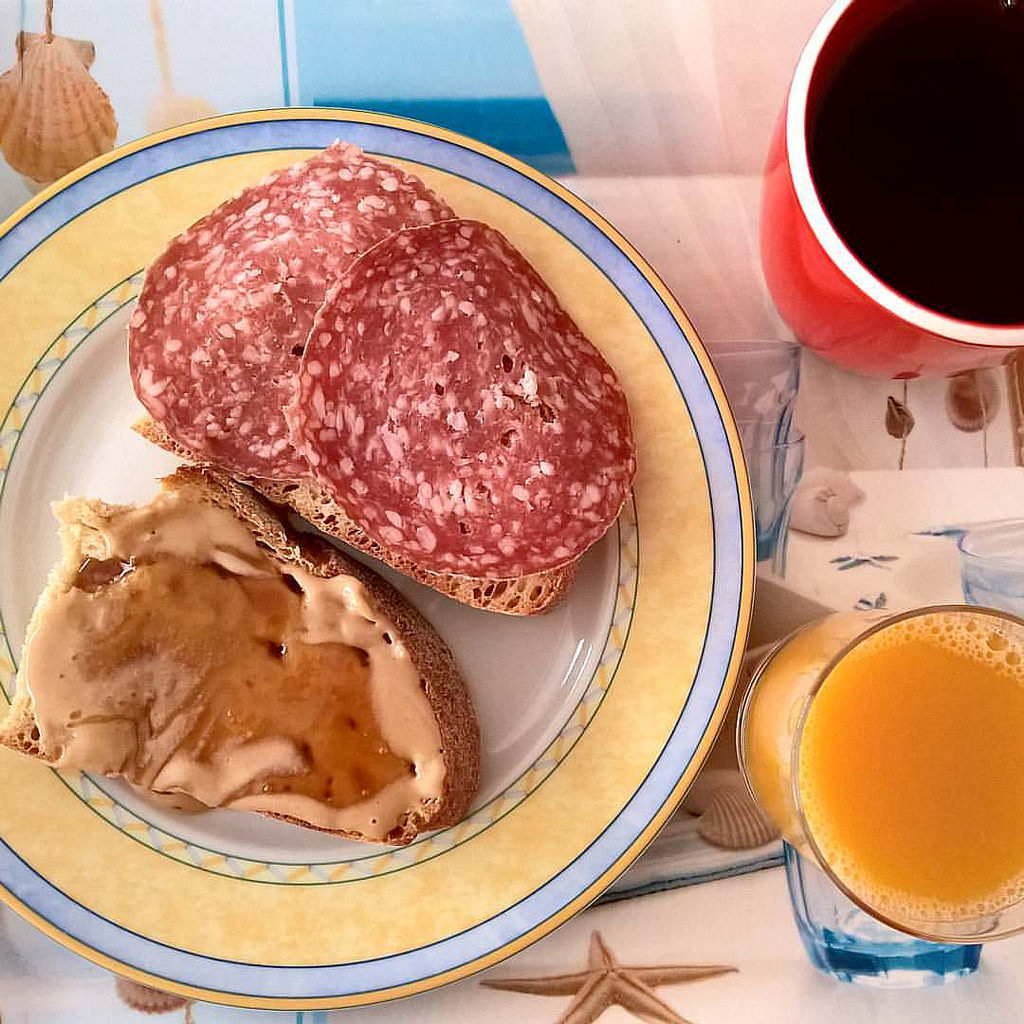slice of bread: (63, 501, 463, 832)
